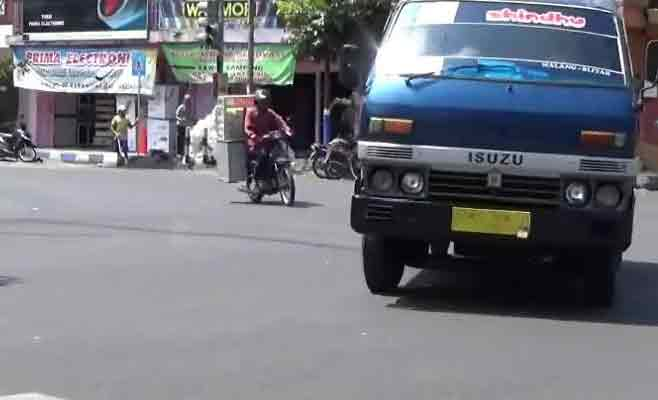plate: (452, 207, 531, 234)
